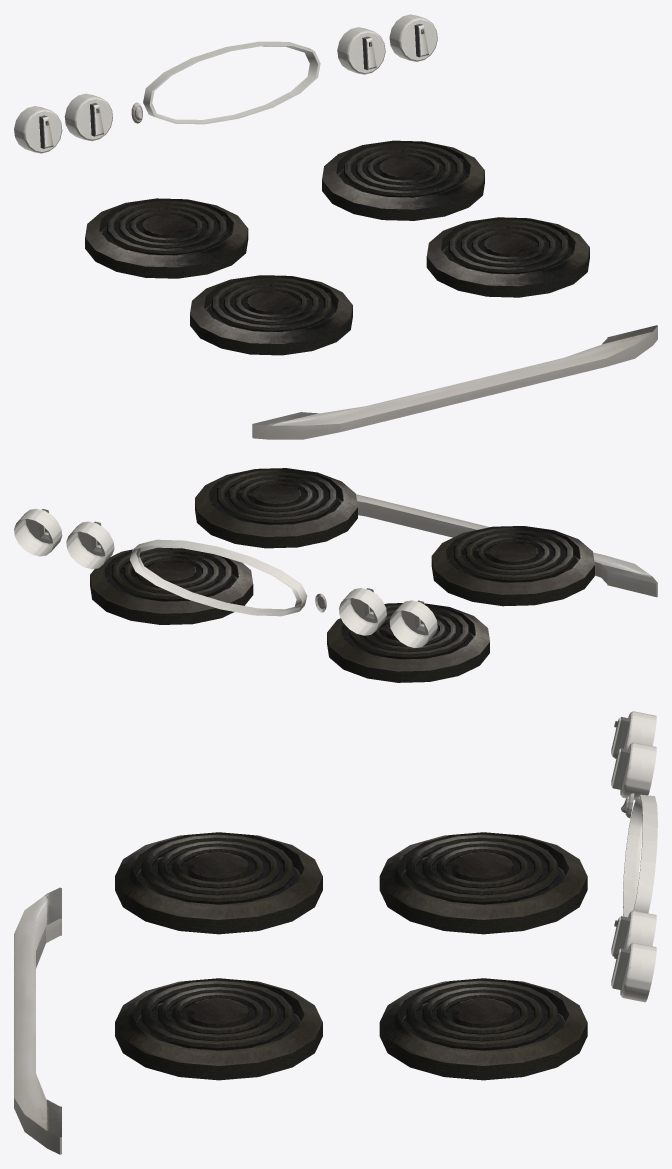
File: Stove4.fbx
The picture shows the model from 3 angles, top to bottom: view 1: azimuth 30°, elevation 25°; view 2: azimuth 150°, elevation 25°; view 3: azimuth 270°, elevation 25°; orthographic projection. The views are drawn at different scales.
Parts seen in each view (by area): view 1: pCylinder74; view 2: pCylinder74; view 3: pCylinder74.
Boxes of the visible parts, <box> form: pCylinder74: <box>14,14,657,439</box>; pCylinder74: <box>14,468,657,682</box>; pCylinder74: <box>14,711,657,1154</box>.
Size of the model in its own units: 0.6992 by 0.2716 by 0.7457.
1 material, 1 textured.
